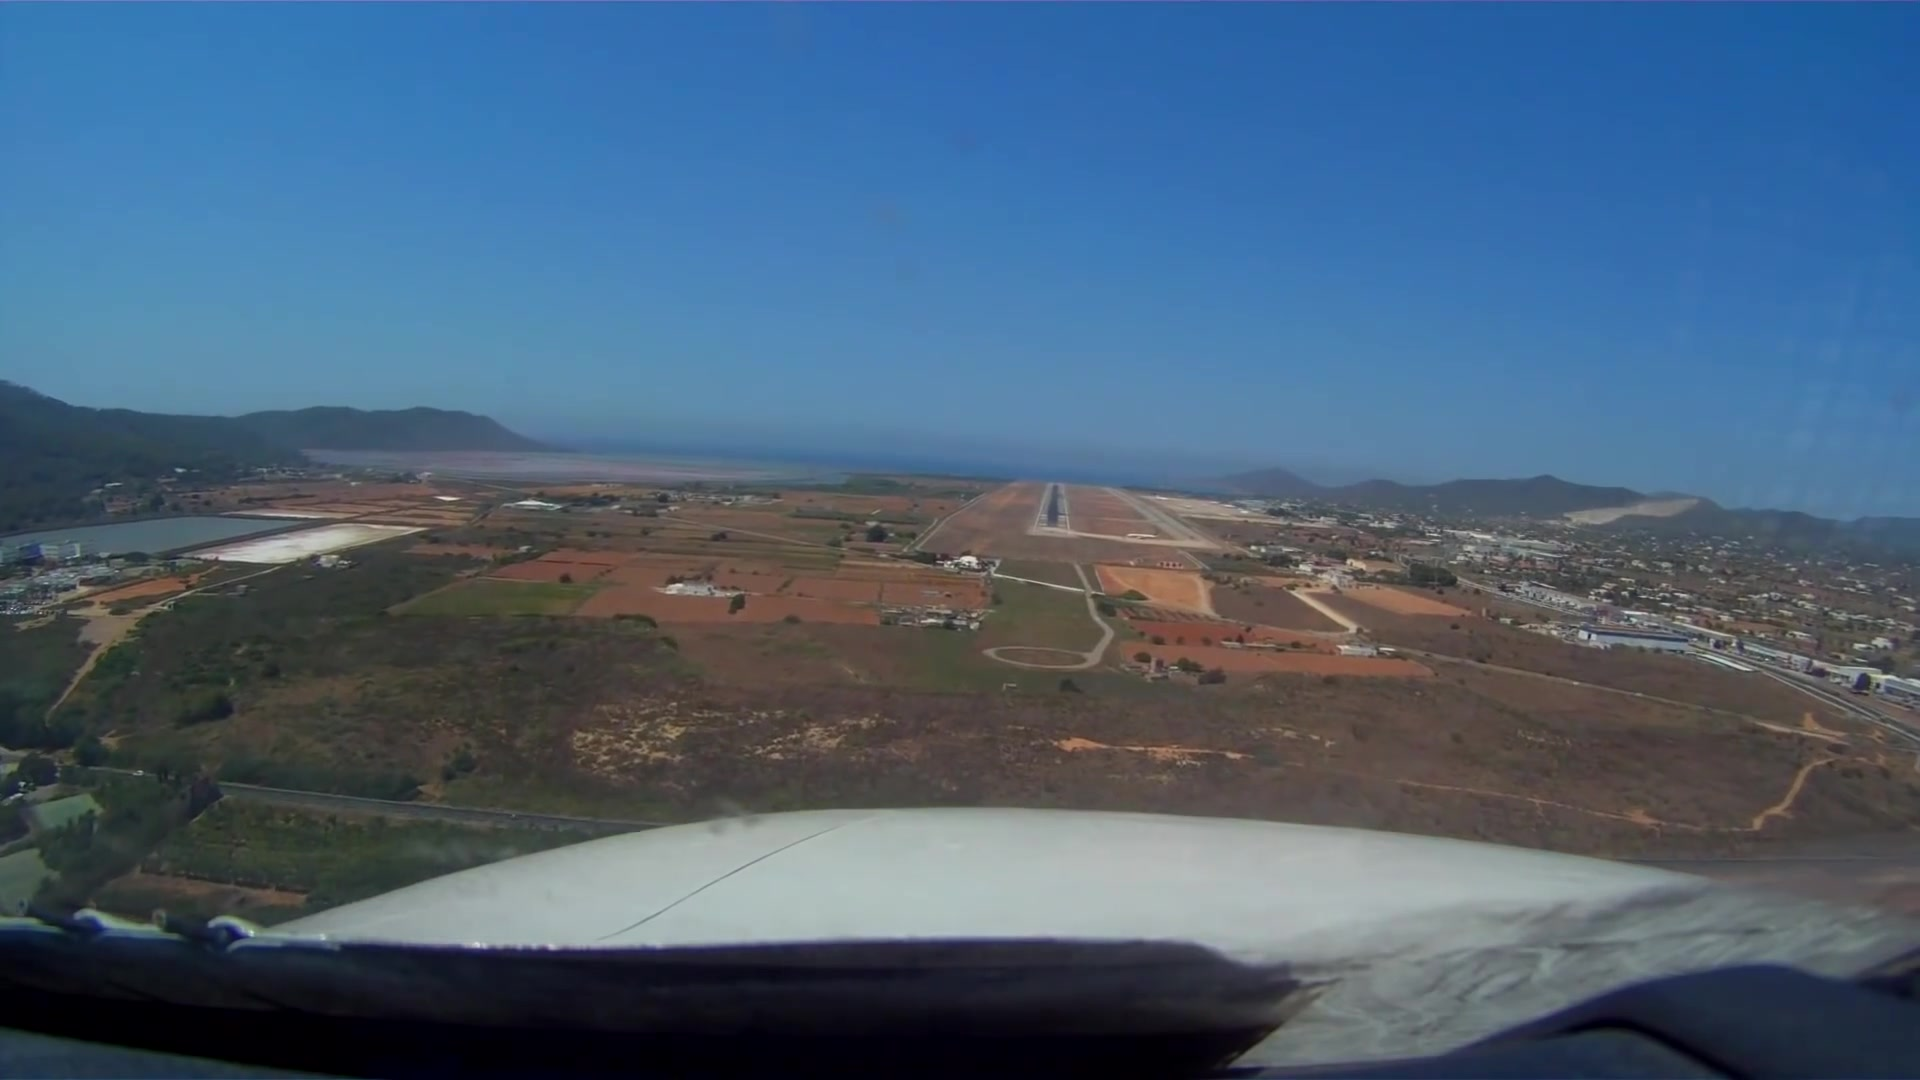runway: (1031, 481, 1069, 539)
